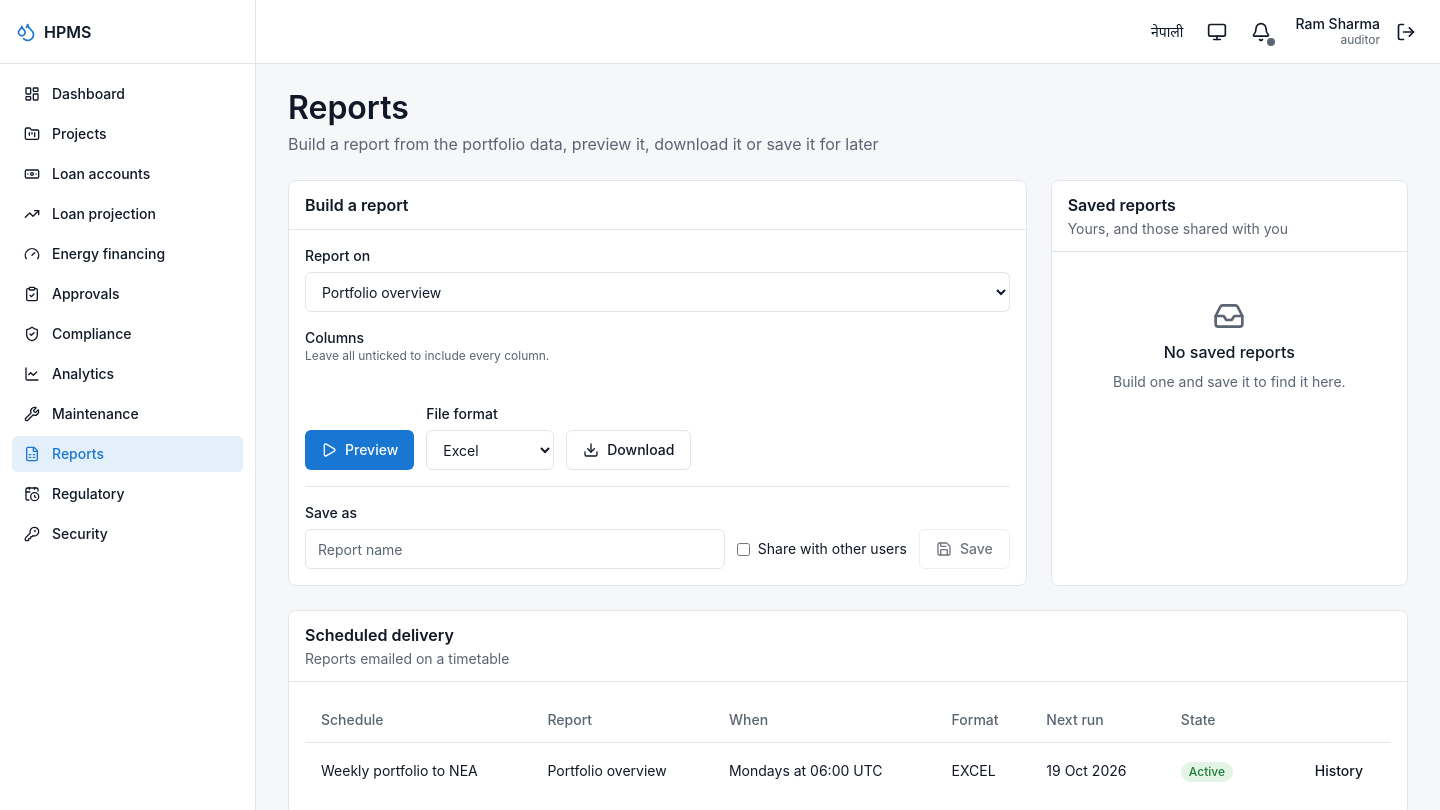
Test: scheduled report delivery › shows an auditor the schedules and their runs, without any controls to change them
The width and height of the screenshot is (1440, 810).
Click the button "History": (1339, 771) top-left (1303, 755), bottom-right (1375, 787)
(page scrolled)
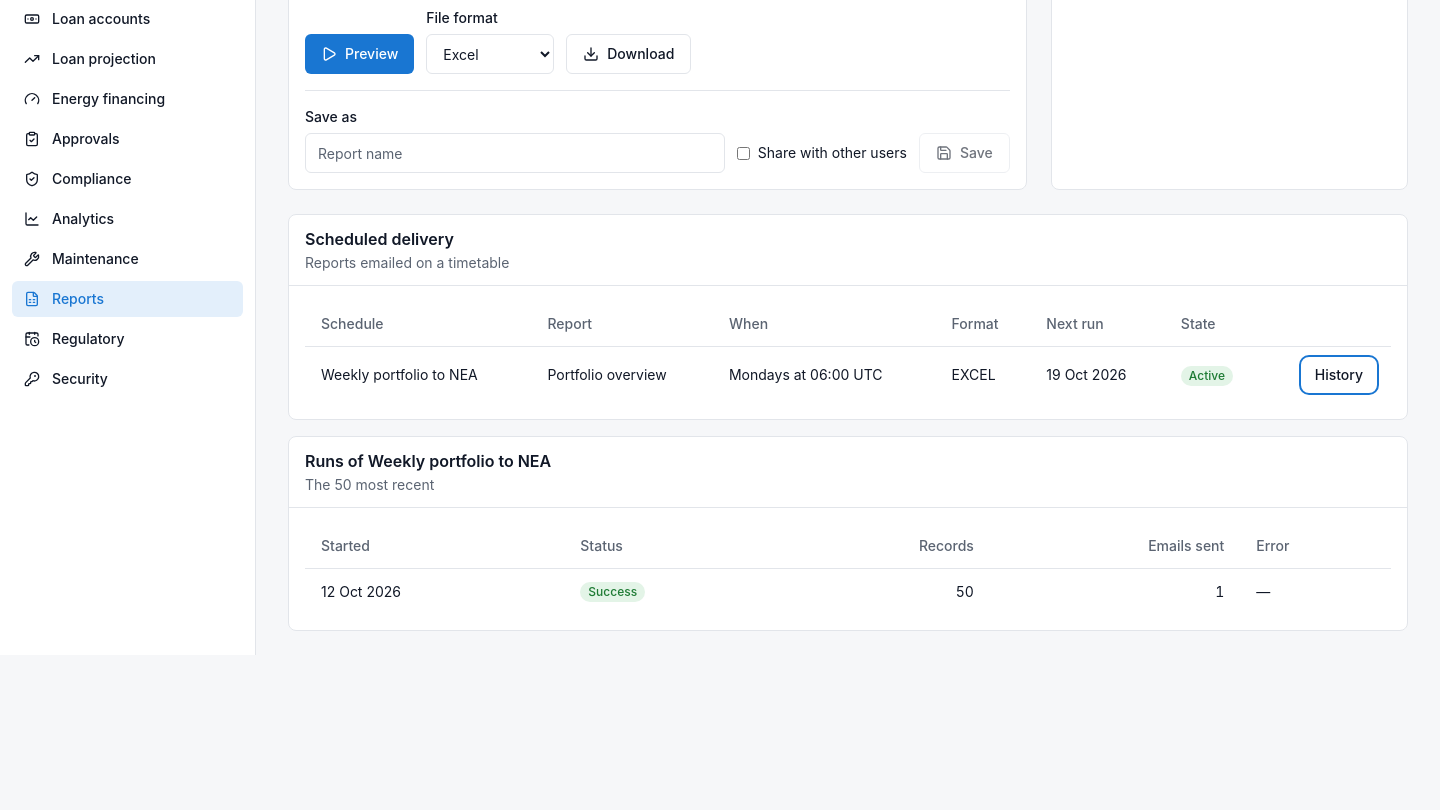
Result: the text "Success" is shown at top-left (580, 582), bottom-right (645, 602)
Result: the text "50" is shown at top-left (788, 569), bottom-right (990, 614)
